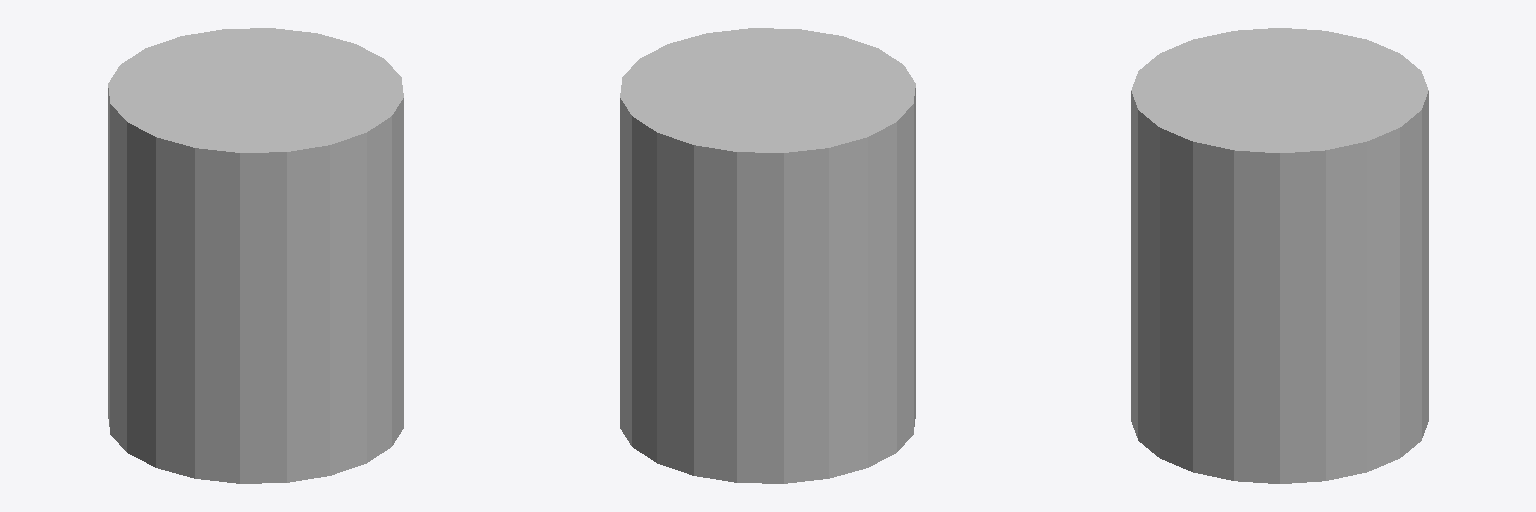
Rendered from canned_food_1.obj.
3 views of the same model, side by side, from view 1: azimuth 30°, elevation 25°; view 2: azimuth 150°, elevation 25°; view 3: azimuth 270°, elevation 25° (orthographic).
Parts seen in each view (by area): view 1: pCylinder1; view 2: pCylinder1; view 3: pCylinder1.
Boxes of the visible parts, x1,y1,x2,y2 form: pCylinder1: [108, 28, 403, 483]; pCylinder1: [620, 28, 915, 483]; pCylinder1: [1131, 28, 1428, 483].
Bounding box in the file's own units: 0.5673 × 0.6956 × 0.5673.